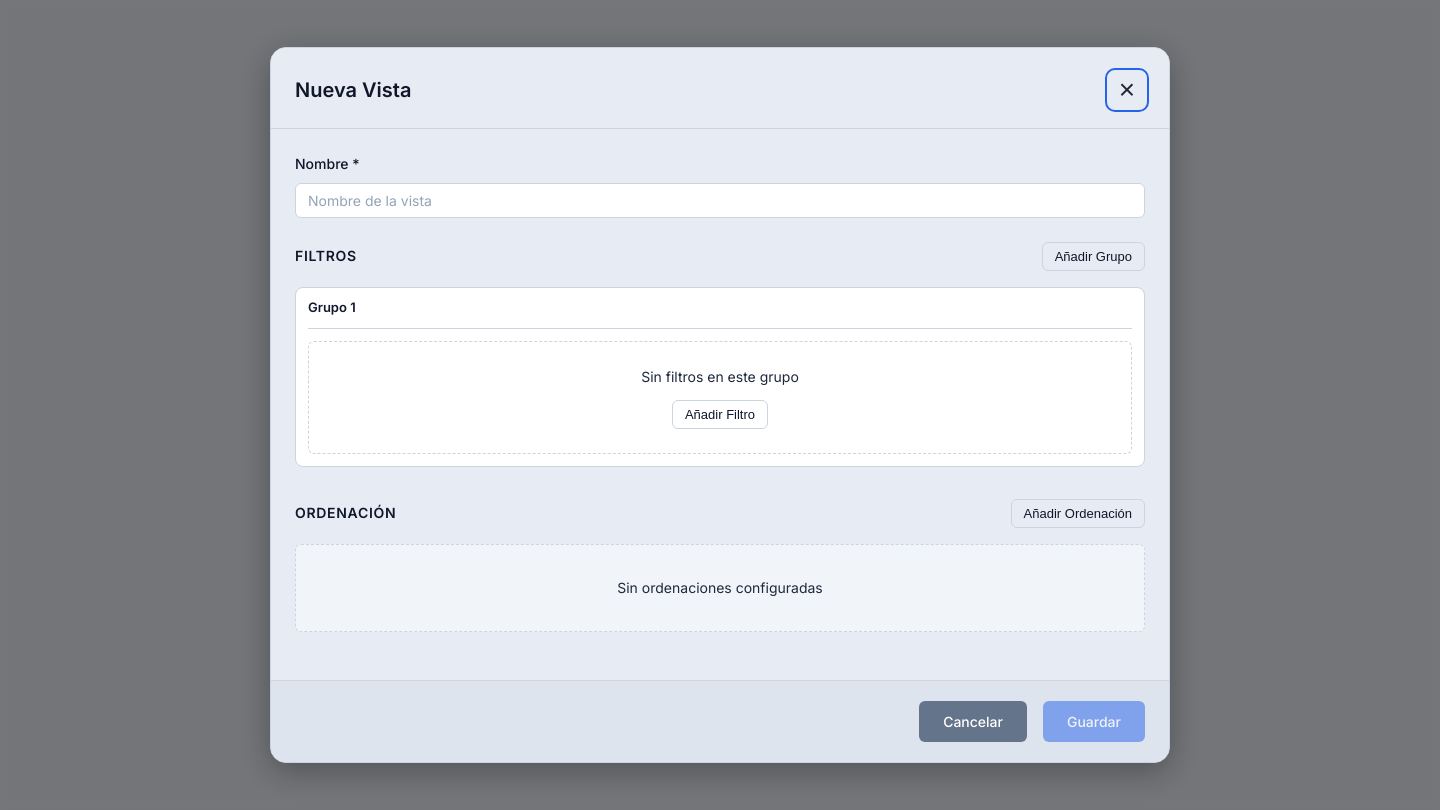
it: GameViewModal › adds a sorting rule
Expected: the text "Sin ordenaciones configuradas" is shown, 295,544 -> 1145,632
What coordinates should you click on to do the following:
click the button "Añadir Ordenación"
I would click on:
 (1078, 514)
Its box is 1011,499 -> 1145,528.
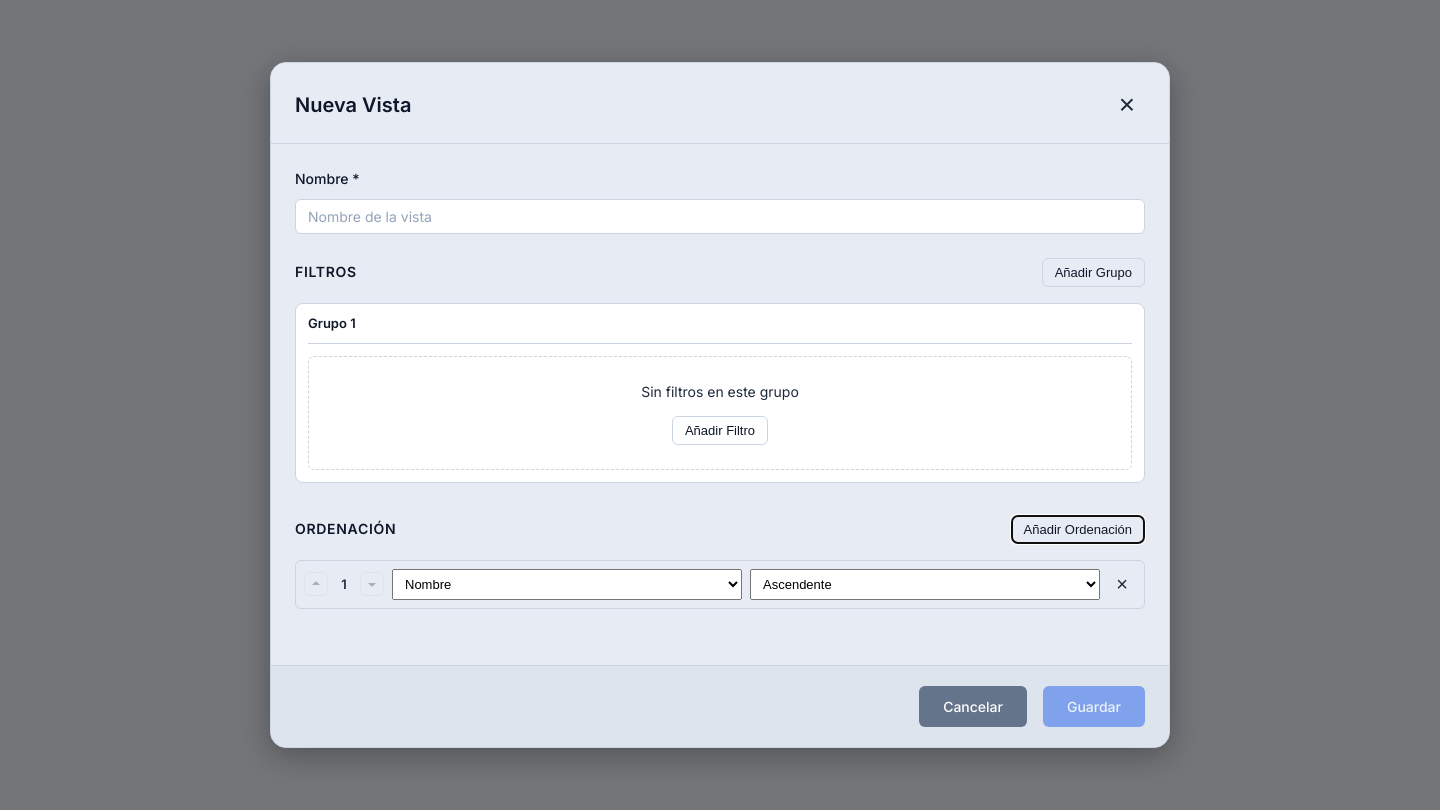
Now the text "Sin ordenaciones configuradas" is gone
